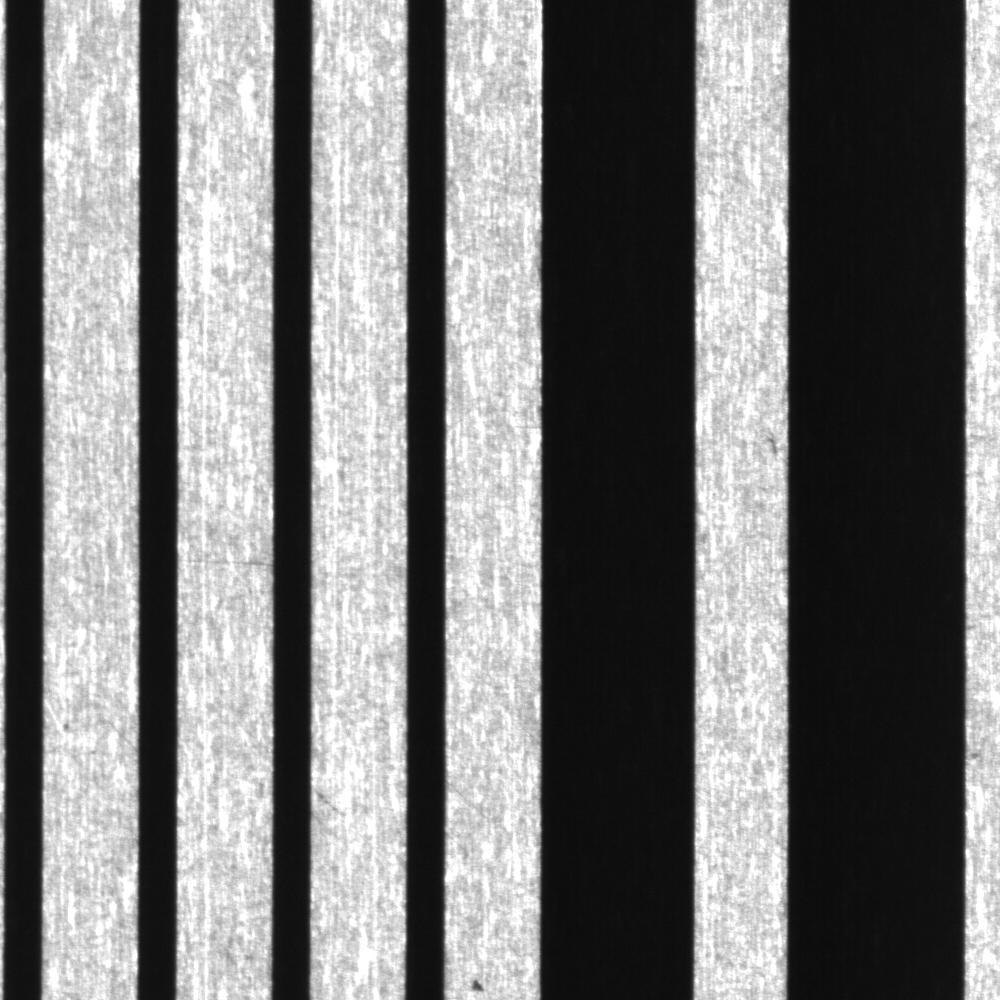Etching: (454, 955, 503, 1000), (758, 419, 787, 471), (55, 716, 79, 735)
Scar: (89, 705, 140, 771), (445, 774, 500, 829), (179, 547, 272, 579), (312, 775, 359, 831)
